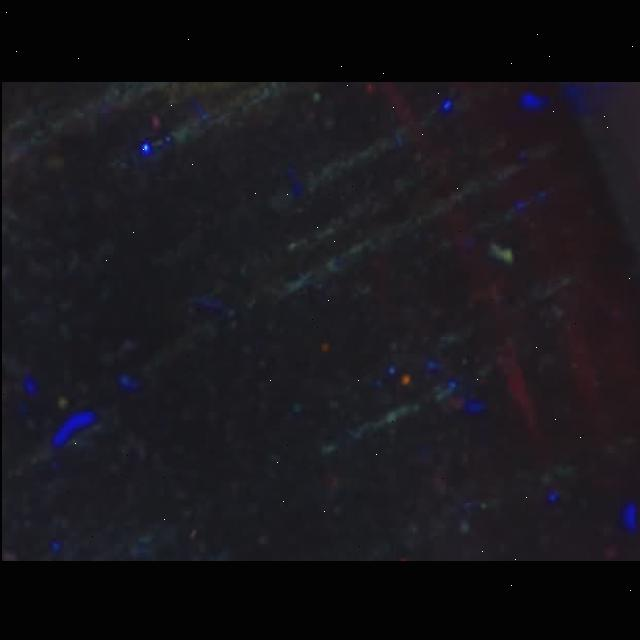microbeads: (486, 240, 514, 266)
